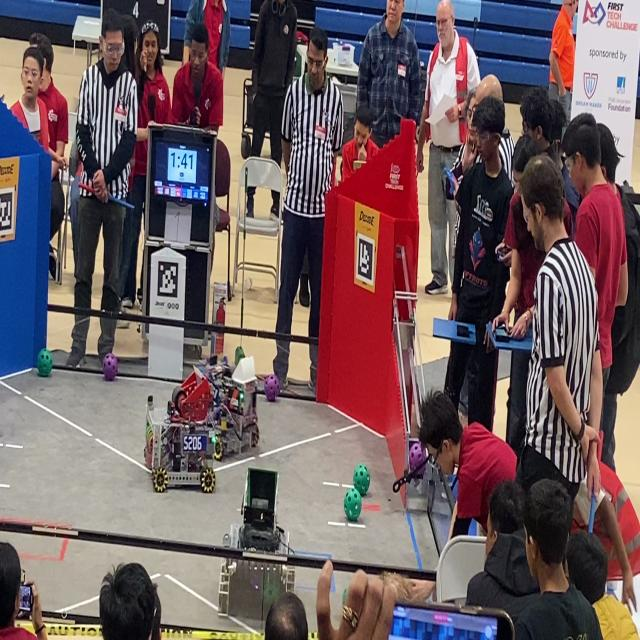artifact_green: (344, 488, 361, 522), (353, 464, 370, 496), (37, 349, 52, 376), (263, 580, 280, 602), (234, 346, 246, 366), (343, 587, 348, 606)
artifact_purple: (409, 443, 426, 471), (264, 374, 279, 401), (103, 353, 117, 381)
